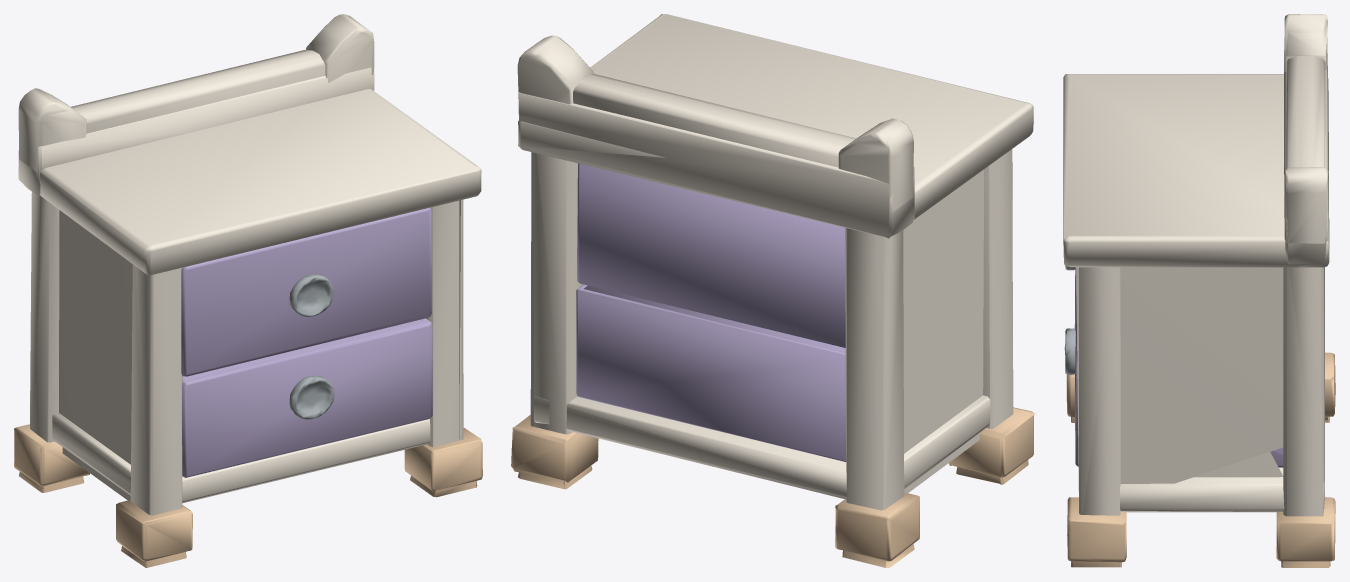
The model's file is bedroom_nightstand.glb.
The picture shows the model from 3 angles, left to right: view 1: azimuth 30°, elevation 25°; view 2: azimuth 150°, elevation 25°; view 3: azimuth 270°, elevation 25°; orthographic projection. The views are drawn at different scales.
Bounding box in the file's own units: 1 × 1.08 × 0.6771.
